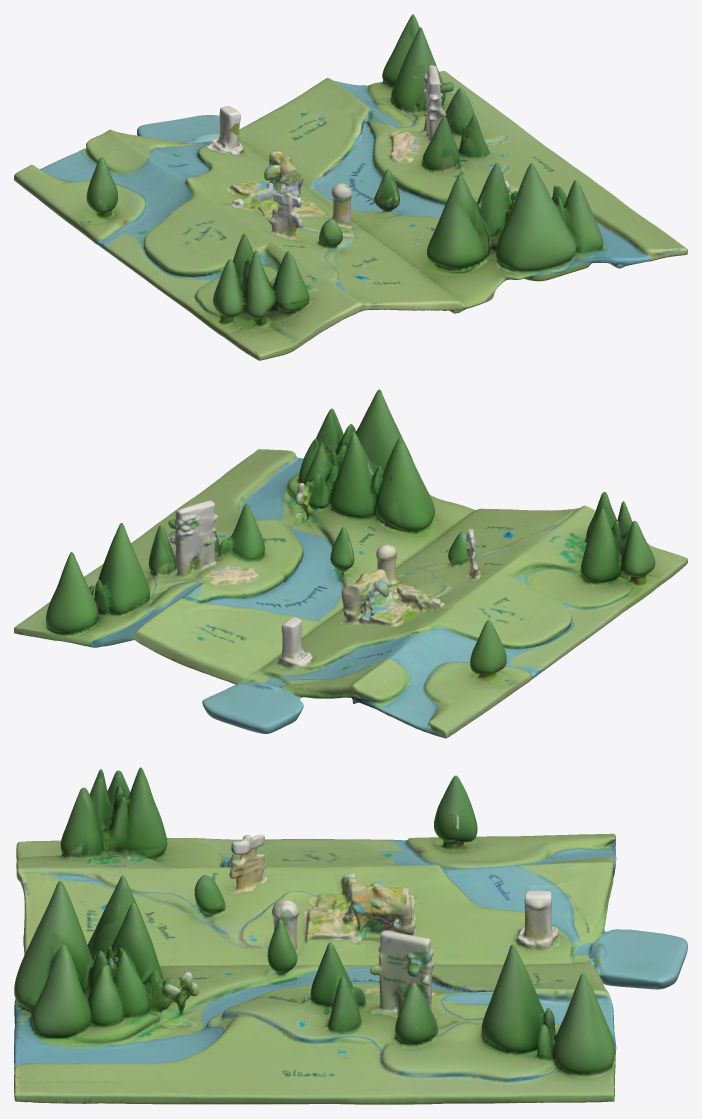
Rendered from map.glb.
3 views of the same model, one above another, from view 1: azimuth 30°, elevation 25°; view 2: azimuth 150°, elevation 25°; view 3: azimuth 270°, elevation 25° (orthographic). The views are drawn at different scales.
Bounding box in the file's own units: 59734 × 16643 × 65411.
1 material, 1 textured.
